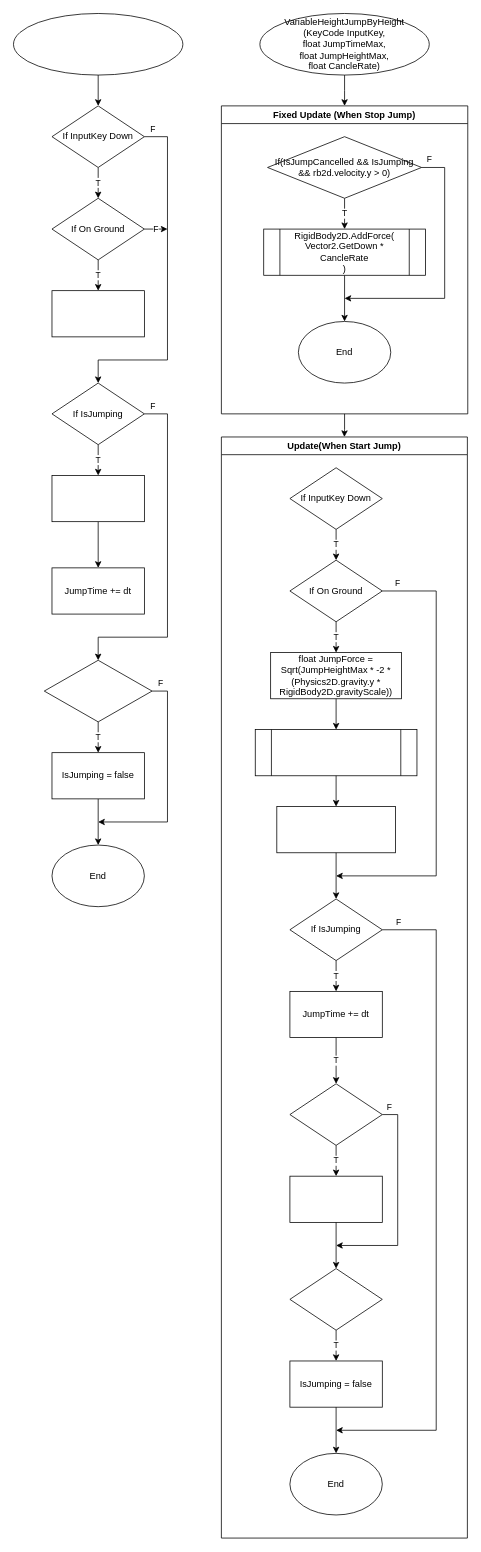
Image size: 481x1552. Some labels were removed from this diagram. The shapes that lost their labels are listed below. From the top down, each one's centre as x and y in pixels, then its label:
At (98,44): "VariableHeightJumpByTime (KeyCode InputKey, float JumpTimeMax, float JumpPower)".
At (97,313): "IsJumping = True JumpTime = 0".
At (97,498): "Set Velocity by JumpPower".
At (98,691): "If InpuKey Up or JumpTime > JumpTimeMax".
At (335,752): "RigidBody2D.AddForce(new Vector2(0, JumpForce), Impulse)".
At (335,829): "IsJumping = True IsJumpCancelled = false JumpTime = 0".
At (335,1114): "If InputKey Up".
At (335,1198): "IsJumpCancelled = true".
At (335,1299): "If JumpTime > JumpTimeMax".
